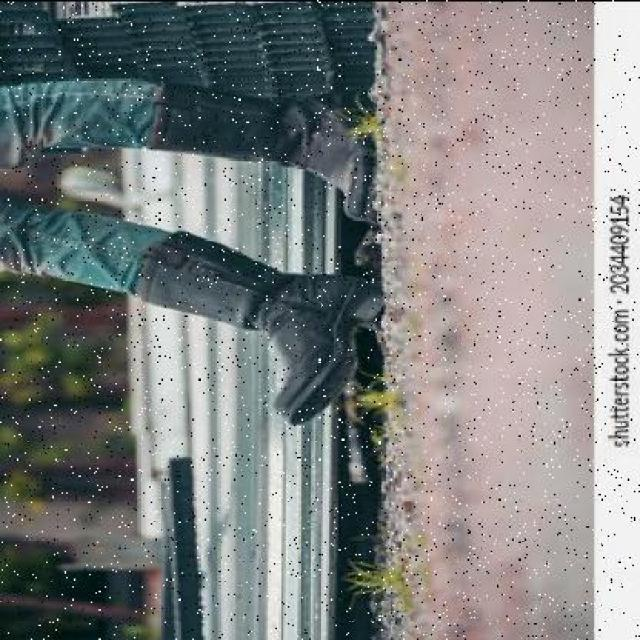shoes: (137, 256, 386, 418), (147, 77, 384, 217)
